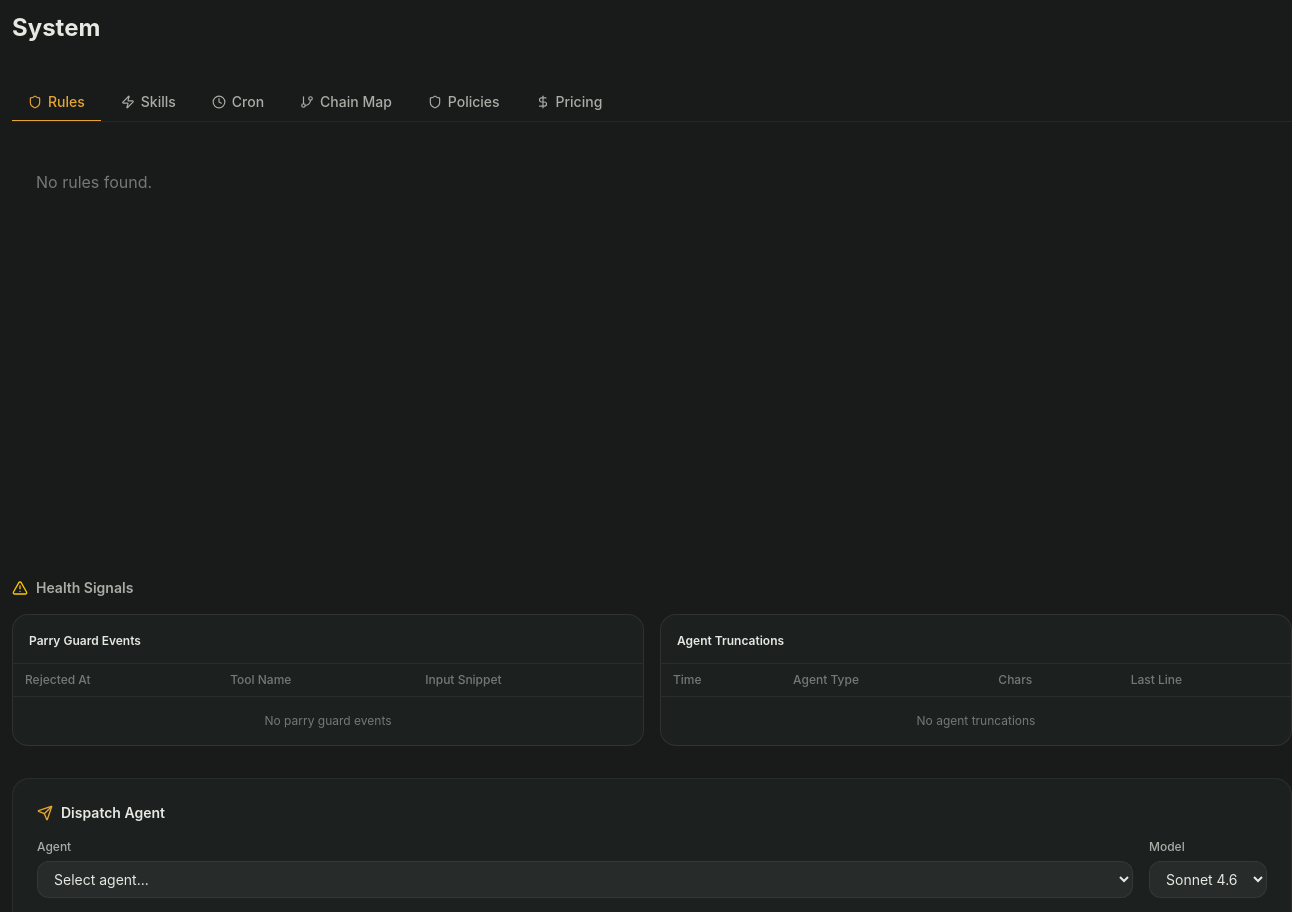
Scenario: SystemView — CronTab → aria-labels on cron control buttons › Play button has aria-label "Run cron entry now"
Click the button "Cron" at [238, 103], box [196,84,280,122]
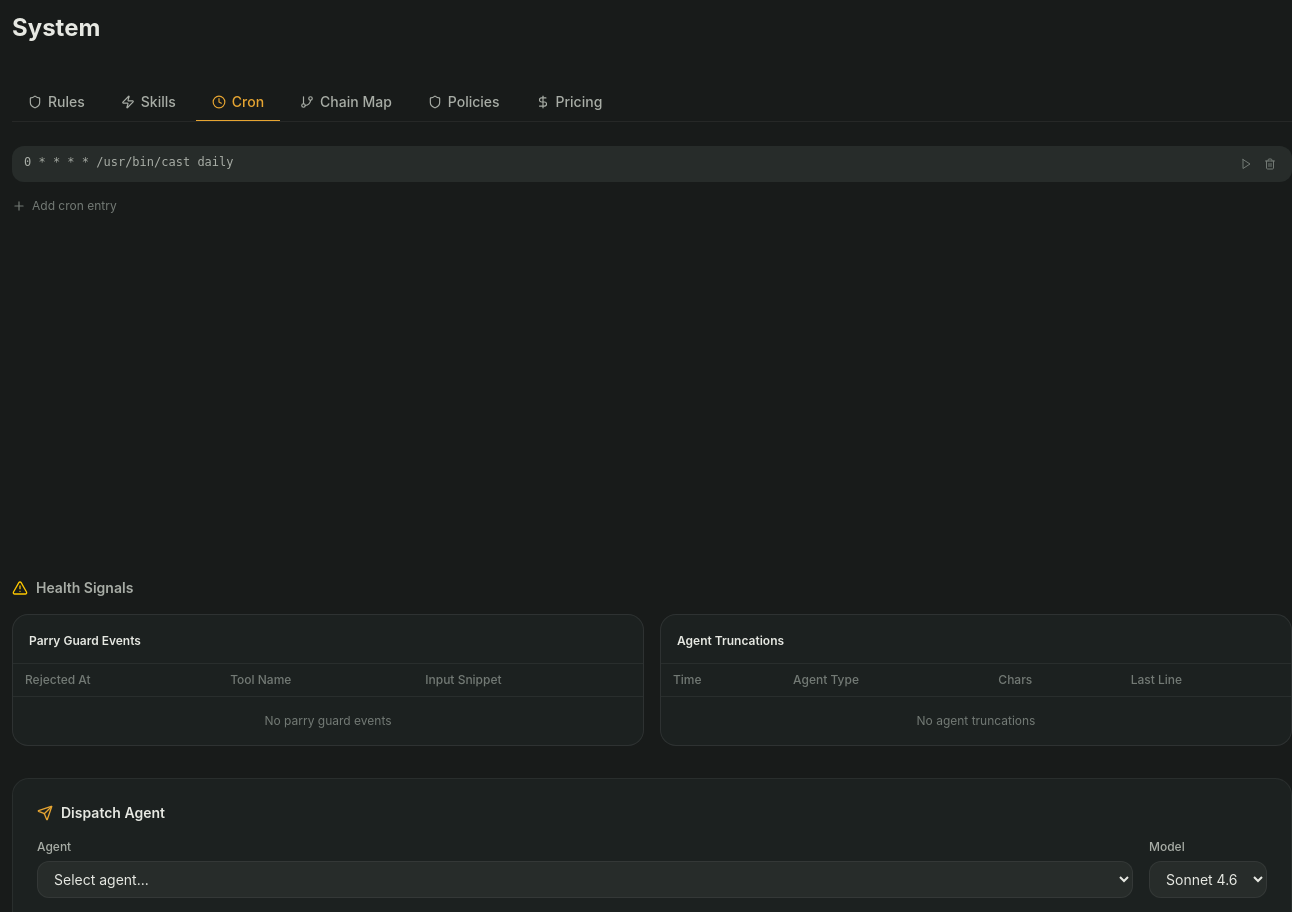
Expected: the button named "Run cron entry now" is shown, [1236,154,1256,174]
